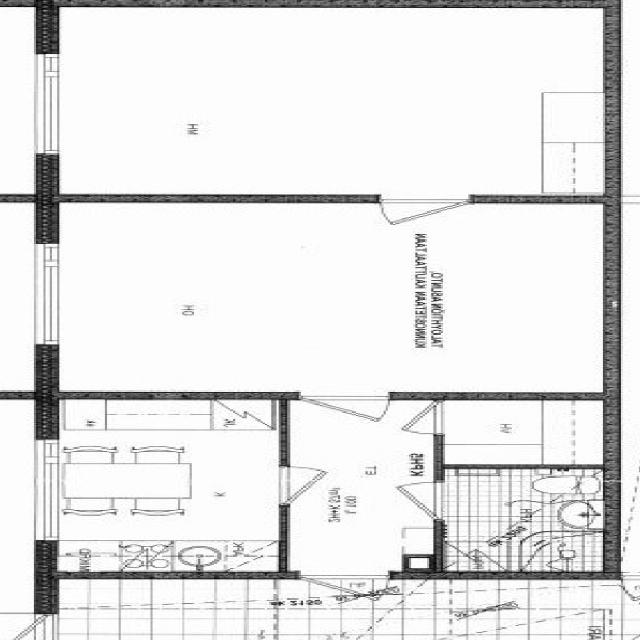door: (298, 392, 391, 444), (381, 195, 472, 248), (299, 571, 390, 623), (278, 466, 368, 505), (358, 482, 444, 520), (368, 401, 444, 433)
